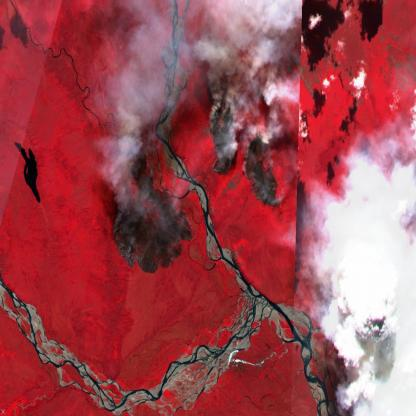fire: (105, 132, 196, 286), (335, 294, 416, 416), (204, 94, 284, 217)
